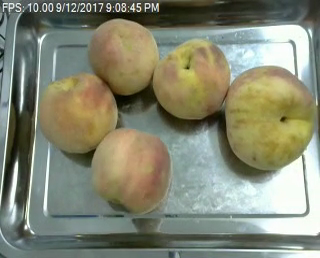Peach: (223, 65, 316, 170), (90, 128, 171, 213), (38, 72, 118, 153), (152, 39, 232, 120), (87, 18, 160, 95)
